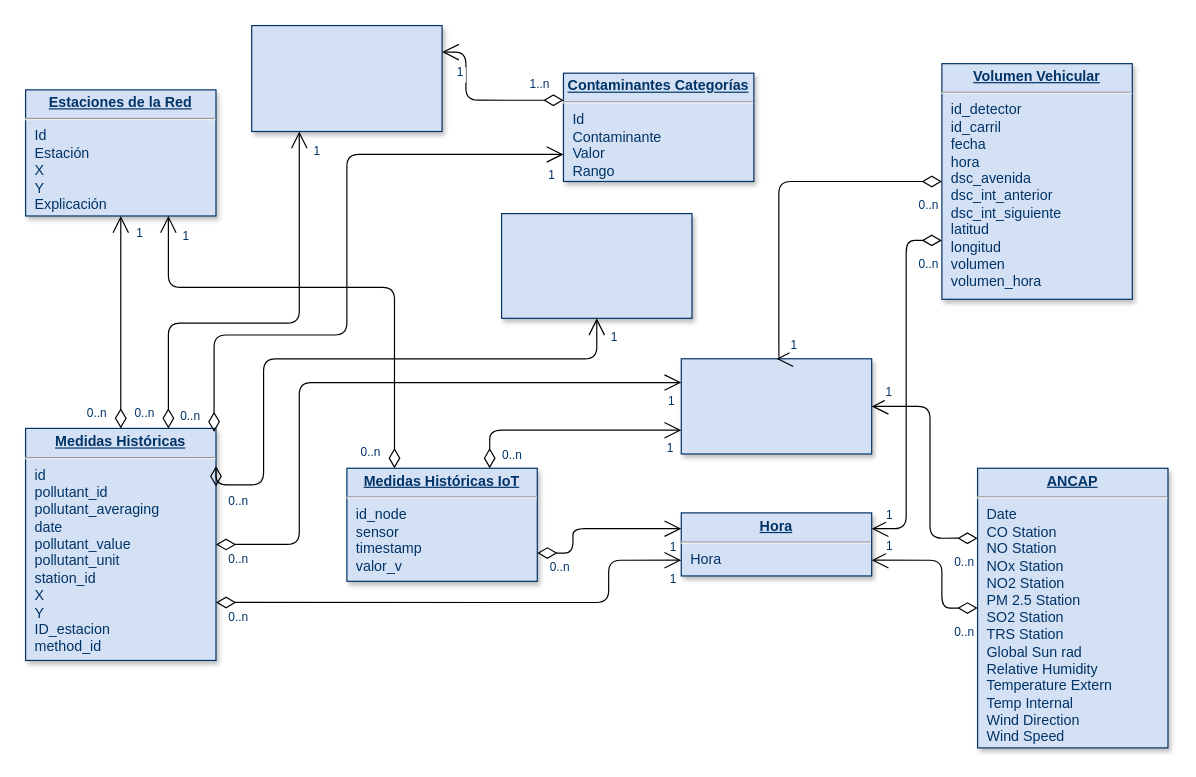
Image size: 1196x777. Some labels were removed from this diagram. The shapes that lost their labels are listed below. From the top down, each one's centre as x and y in pixels, then its label:
At pixel 347 80: "Contaminantes Id Contaminante Explicación".
At pixel 597 267: "Métodos Id Método Explicación".
At pixel 777 407: "Fecha Día Mes Año".
